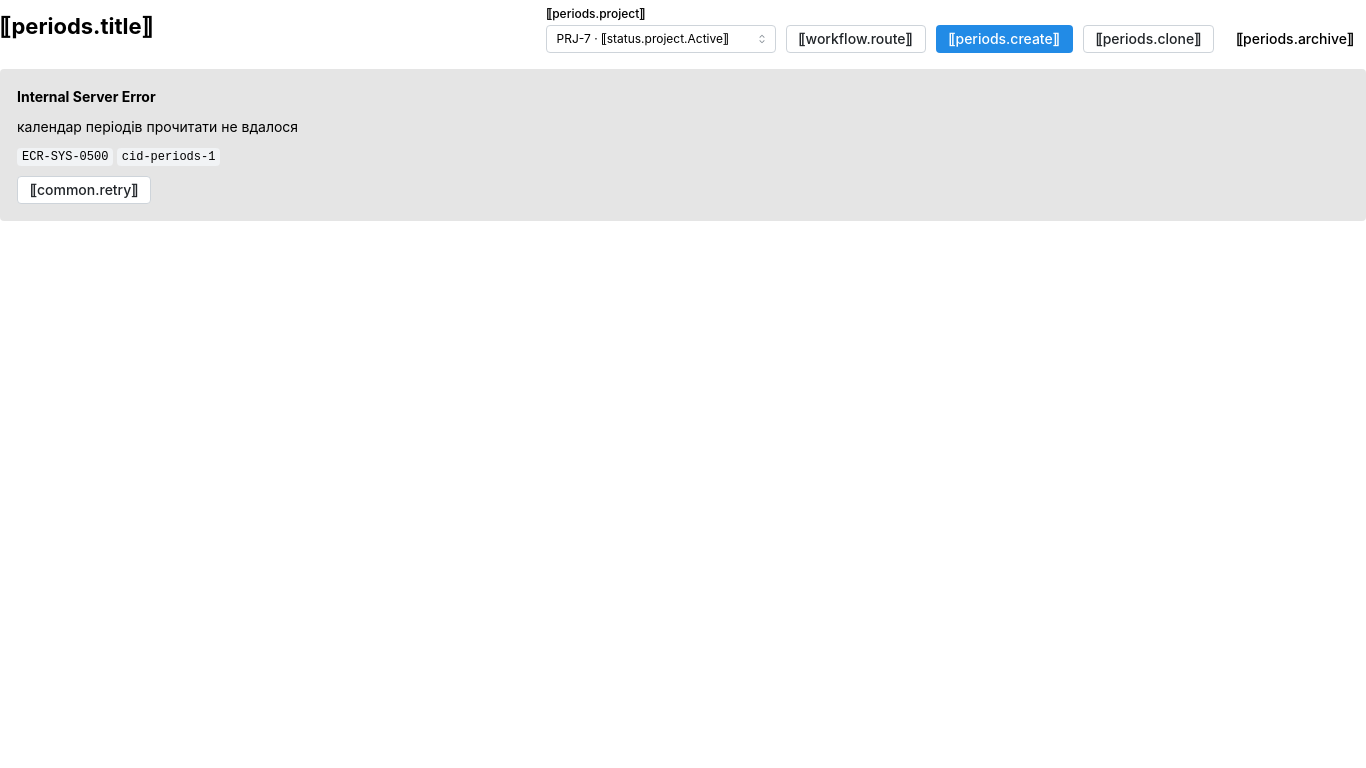
it: PeriodsPage: запобіжник архівації деградує в бік ЗАБОРОНИ › календар не приїхав — кнопка лишається заблокованою, і причину видно
Click the button "⟦periods.archive⟧": (1295, 39) [1224, 25, 1365, 53]
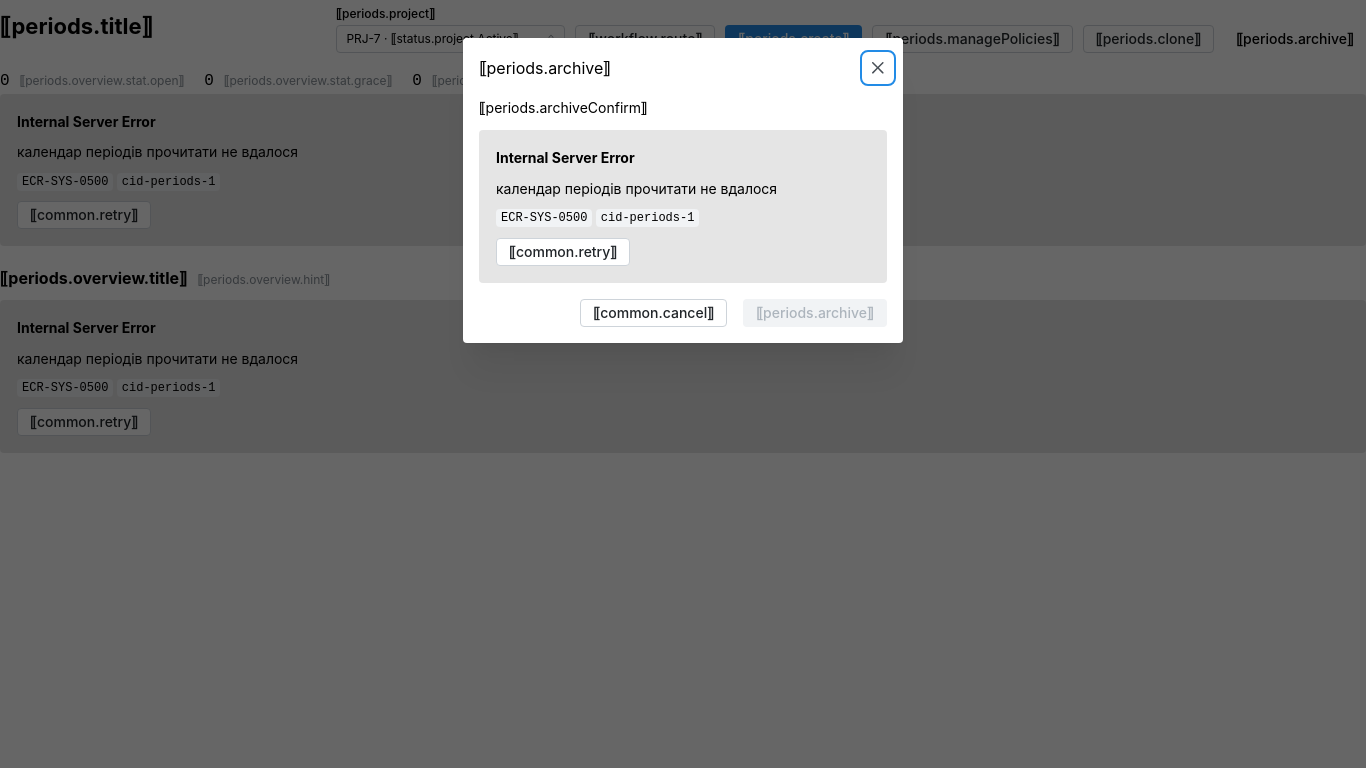
Expected: the button "⟦periods.archive⟧" is disabled, [743, 299, 887, 327]
